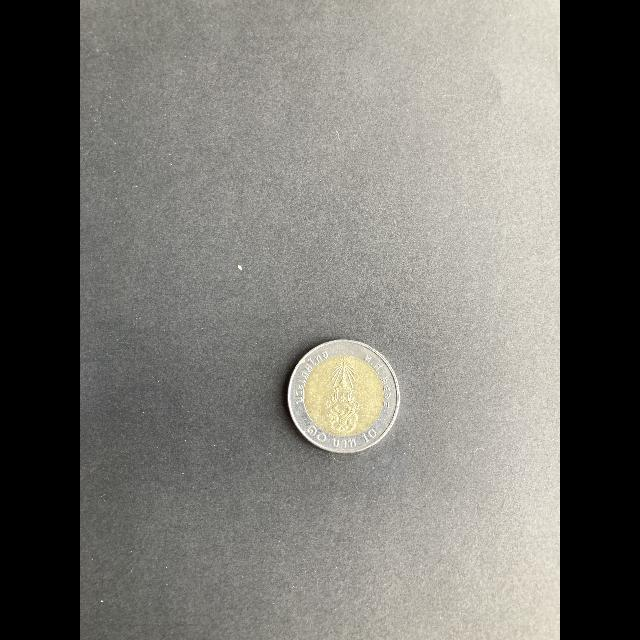10 Bath: (286, 337, 404, 458)
